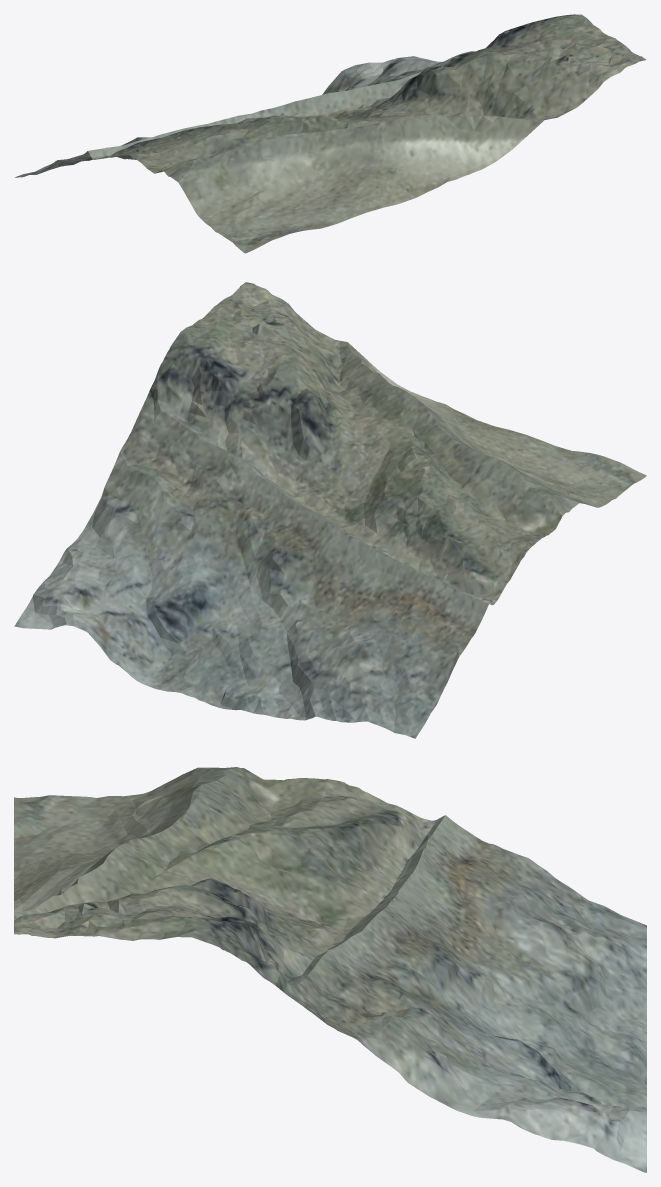
The picture shows the model from 3 angles, top to bottom: view 1: azimuth 30°, elevation 25°; view 2: azimuth 150°, elevation 25°; view 3: azimuth 270°, elevation 25°; orthographic projection. The views are drawn at different scales.
Parts seen in each view (by area): view 1: Plane; view 2: Plane; view 3: Plane.
Boxes of the visible parts, left/top/right/bottom form: Plane: left=14, top=14, right=646, bottom=253; Plane: left=14, top=282, right=646, bottom=738; Plane: left=14, top=767, right=646, bottom=1172.
Size of the model in its own units: 0.6 by 0.295 by 0.6.
1 material, 1 textured.
